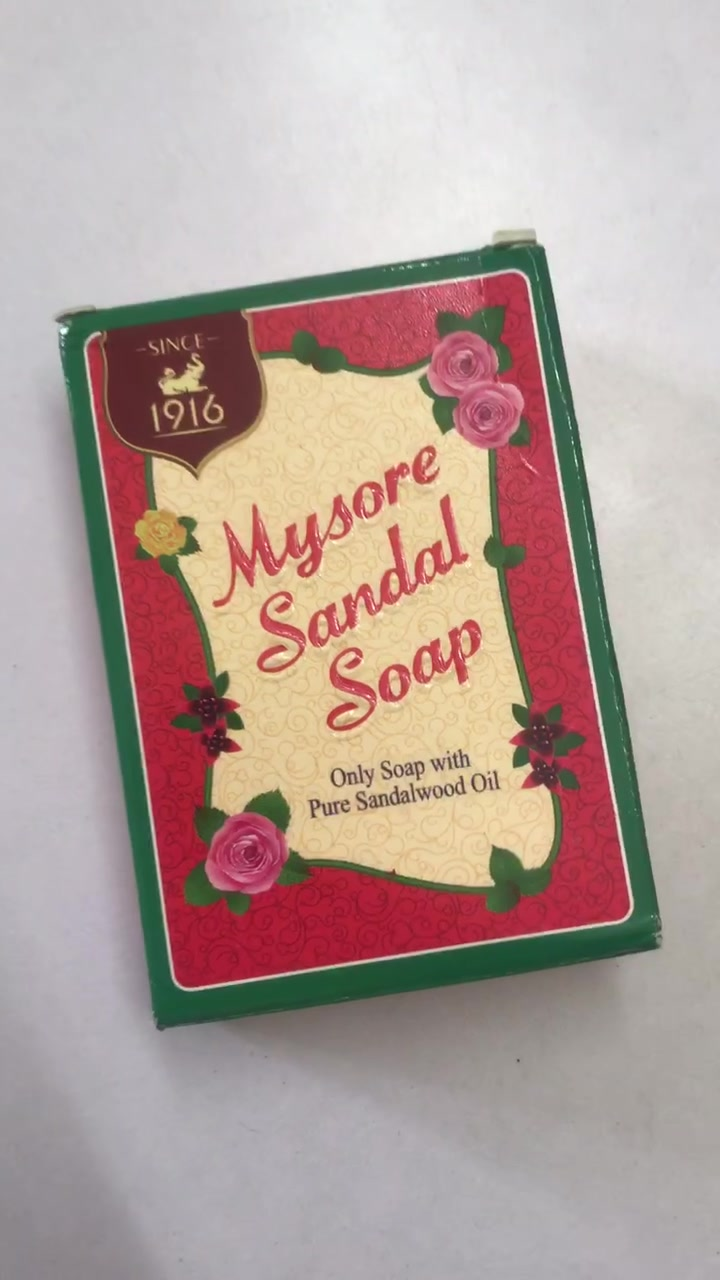mysore sandal soap: (59, 249, 666, 1037)
